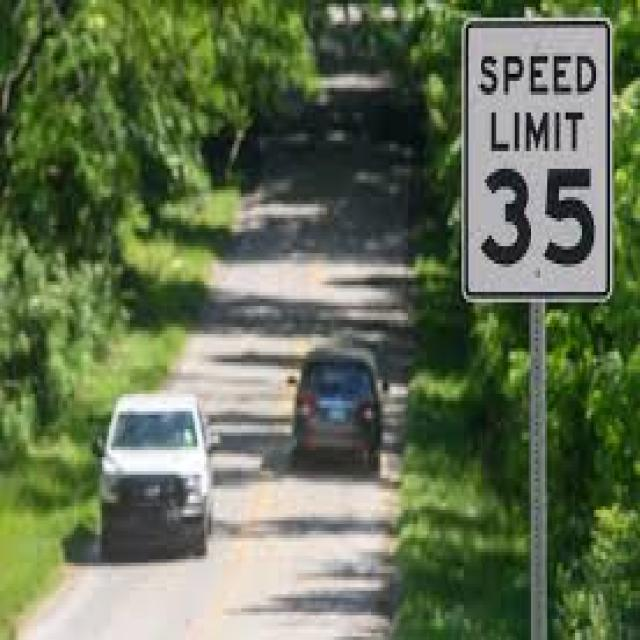speedLimit35: (460, 12, 614, 307)
